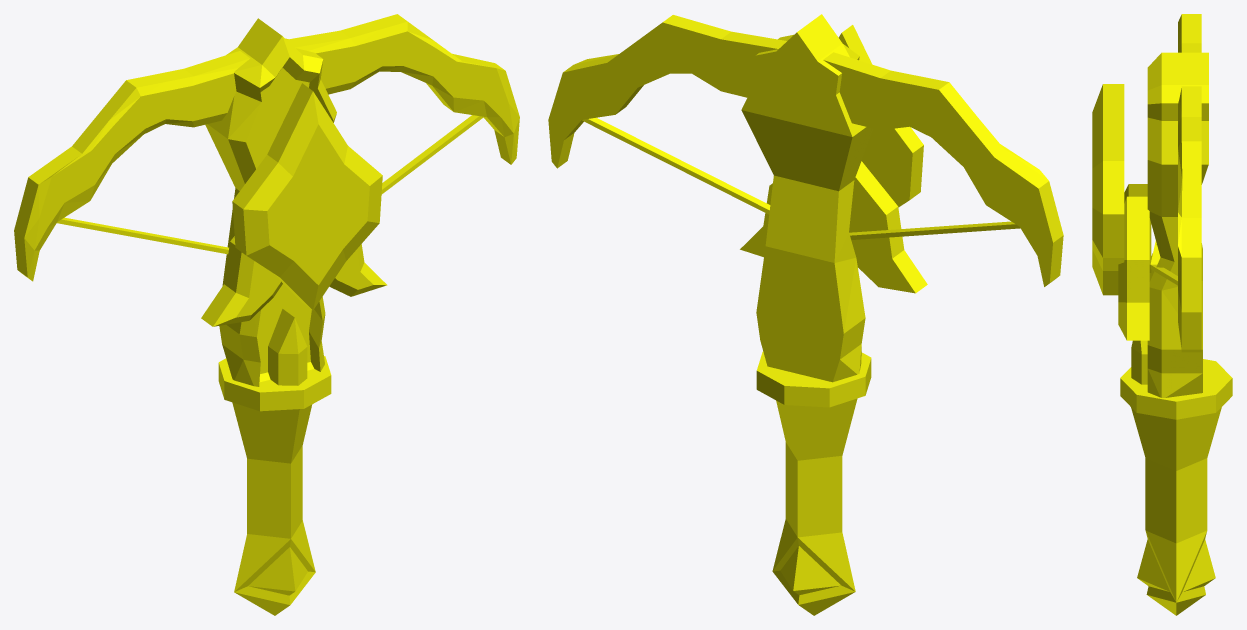
File: _crossbow_21.glb
3 renders of one model, left to right at view 1: azimuth 30°, elevation 25°; view 2: azimuth 150°, elevation 25°; view 3: azimuth 270°, elevation 25°, orthographic. The views are drawn at different scales.
Parts seen in each view (by area): view 1: crossbow_21; view 2: crossbow_21; view 3: crossbow_21.
Boxes of the visible parts, x1=… form: crossbow_21: x1=14, y1=14, x2=519, y2=615; crossbow_21: x1=548, y1=14, x2=1063, y2=615; crossbow_21: x1=1092, y1=14, x2=1232, y2=615.
Size of the model in its own units: 19628 by 22157 by 4990.
